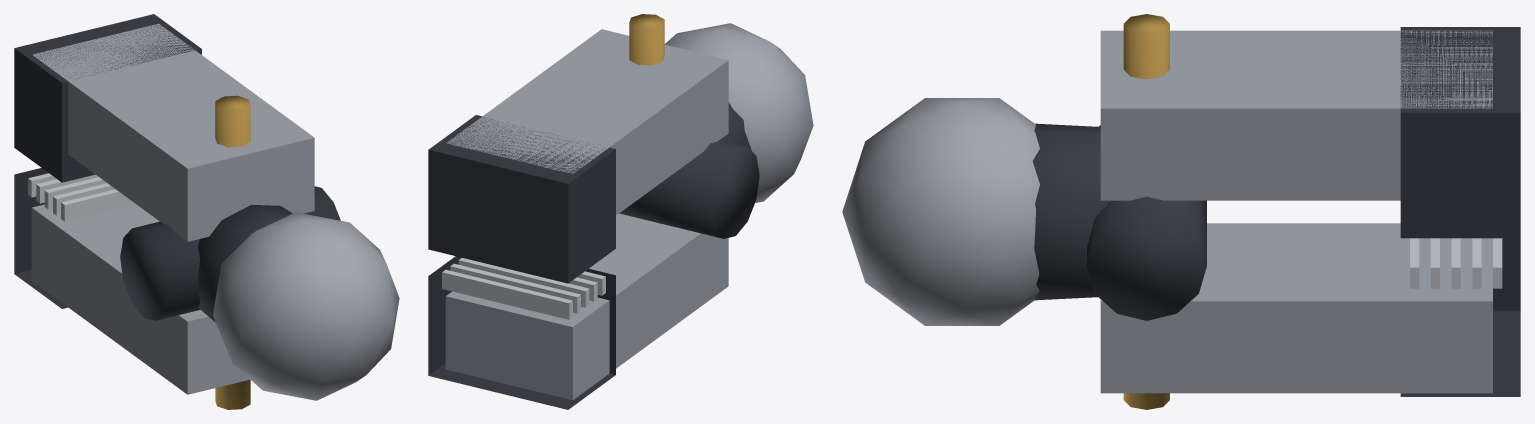
The model's file is prime_vice.glb.
3 views of the same model, side by side, from view 1: azimuth 30°, elevation 25°; view 2: azimuth 150°, elevation 25°; view 3: azimuth 270°, elevation 25° (orthographic). The views are drawn at different scales.
Parts seen in each view (by area): view 1: prime_vice; view 2: prime_vice; view 3: prime_vice.
Boxes of the visible parts, box(x1,y1,x2,y2) form: prime_vice: box(14, 14, 399, 409); prime_vice: box(428, 14, 813, 409); prime_vice: box(842, 14, 1520, 409).
Bounding box in the file's own units: 0.56 × 0.9 × 1.47.
